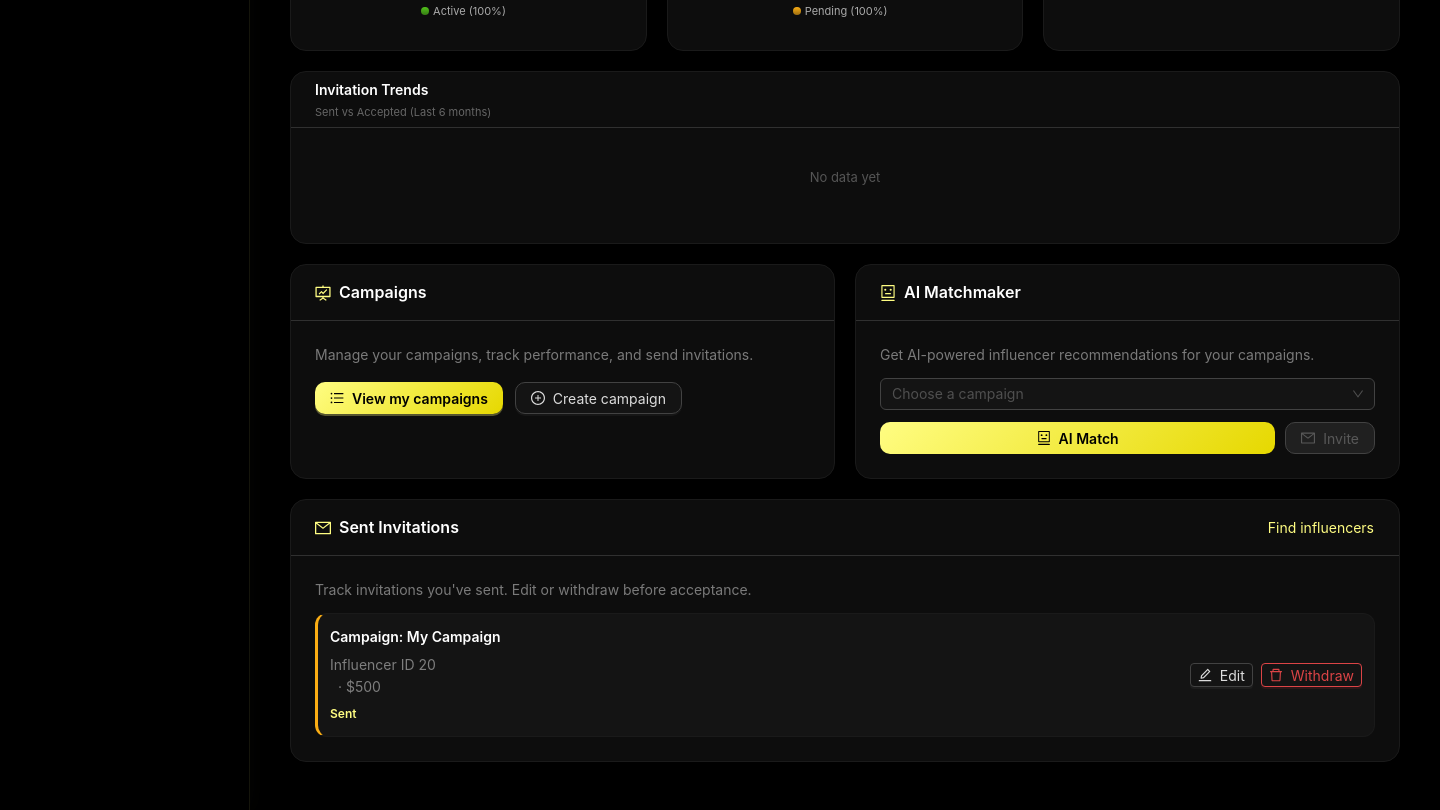
Test case: BrandDashboard › Edit button opens modal with invitation details
(page scrolled)
Expected: the text "Sent Invitations" is shown, [315,517,459,537]
Click the button "Edit". click: (1221, 675)
box: [1190,663,1253,687]
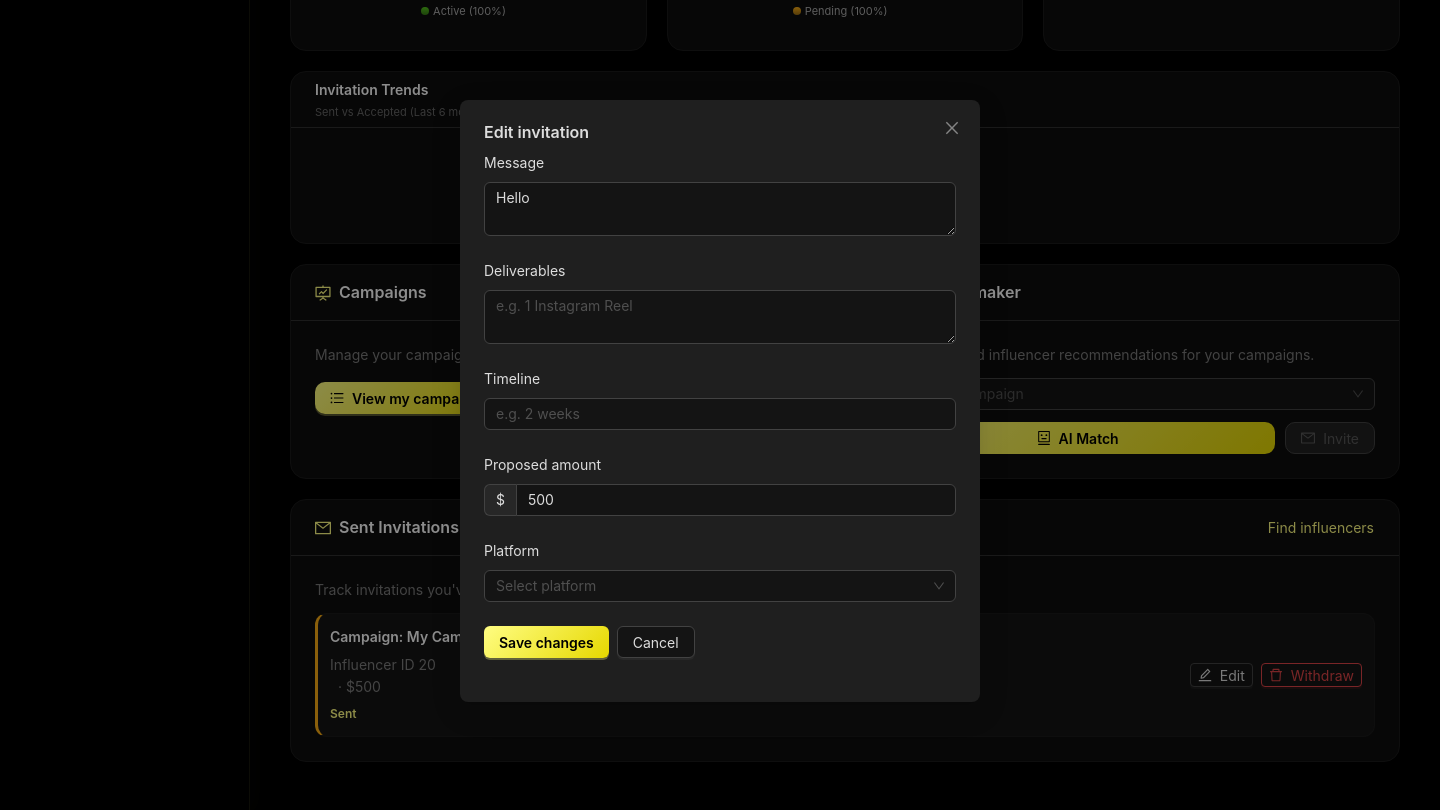
Result: the text "Edit invitation" is shown at [484,122,589,142]
